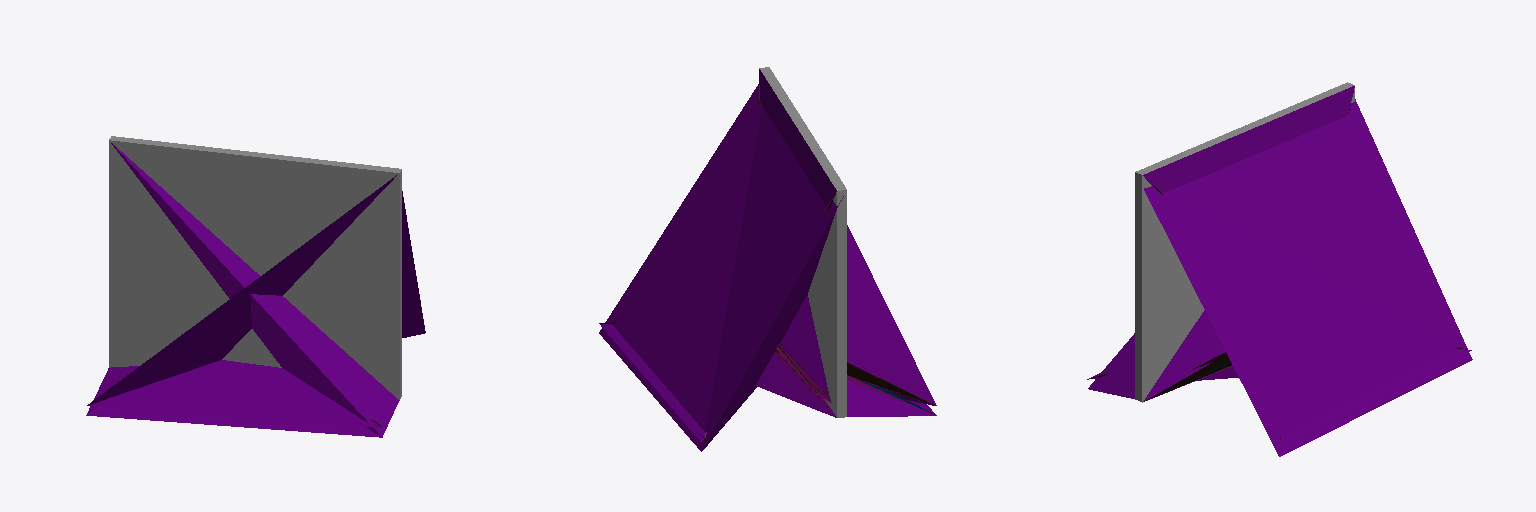
File: KoreanLamp.obj
3 views of the same model, side by side, from view 1: azimuth 30°, elevation 25°; view 2: azimuth 150°, elevation 25°; view 3: azimuth 270°, elevation 25° (orthographic).
Parts seen in each view (by area): view 1: bottom, lampshade; view 2: lampshade, bottom, lamp, lampstam; view 3: lampshade, bottom, lampstam.
Part boxes in pixels (left/top/right/bottom): bottom: left=109, top=136, right=401, bottom=399; lampshade: left=86, top=143, right=425, bottom=437; lampshade: left=599, top=69, right=936, bottom=451; bottom: left=759, top=67, right=846, bottom=417; lamp: left=703, top=193, right=933, bottom=439; lampstam: left=600, top=100, right=934, bottom=441; lampshade: left=1087, top=86, right=1472, bottom=456; bottom: left=1135, top=82, right=1354, bottom=402; lampstam: left=1091, top=92, right=1466, bottom=438.
Size of the model in its own units: 1359 by 907 by 1337.